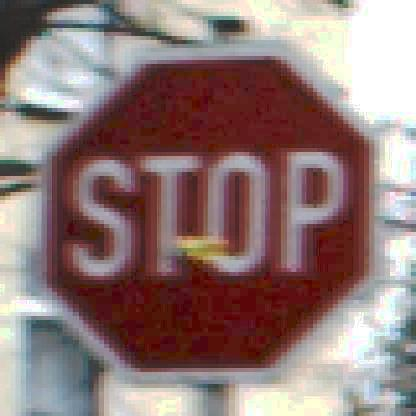Stop Sign: (35, 40, 378, 387)
